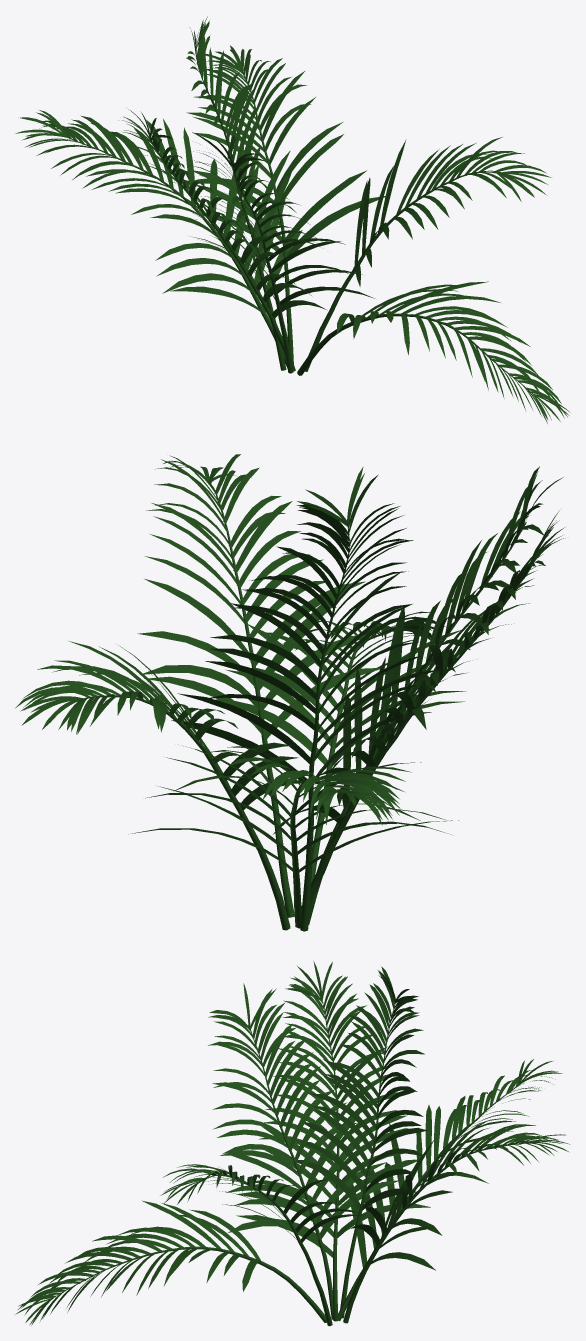
The model's file is Plant.fbx.
3 views of the same model, one above another, from view 1: azimuth 30°, elevation 25°; view 2: azimuth 150°, elevation 25°; view 3: azimuth 270°, elevation 25° (orthographic). The views are drawn at different scales.
Visible parts, largest first — view 1: Palm_01; view 2: Palm_01; view 3: Palm_01.
Part boxes in pixels (x1,y1,x2,y2): Palm_01: (15, 16, 570, 423); Palm_01: (15, 454, 565, 931); Palm_01: (15, 961, 570, 1326).
Bounding box in the file's own units: 16.34 × 15.62 × 24.58.
